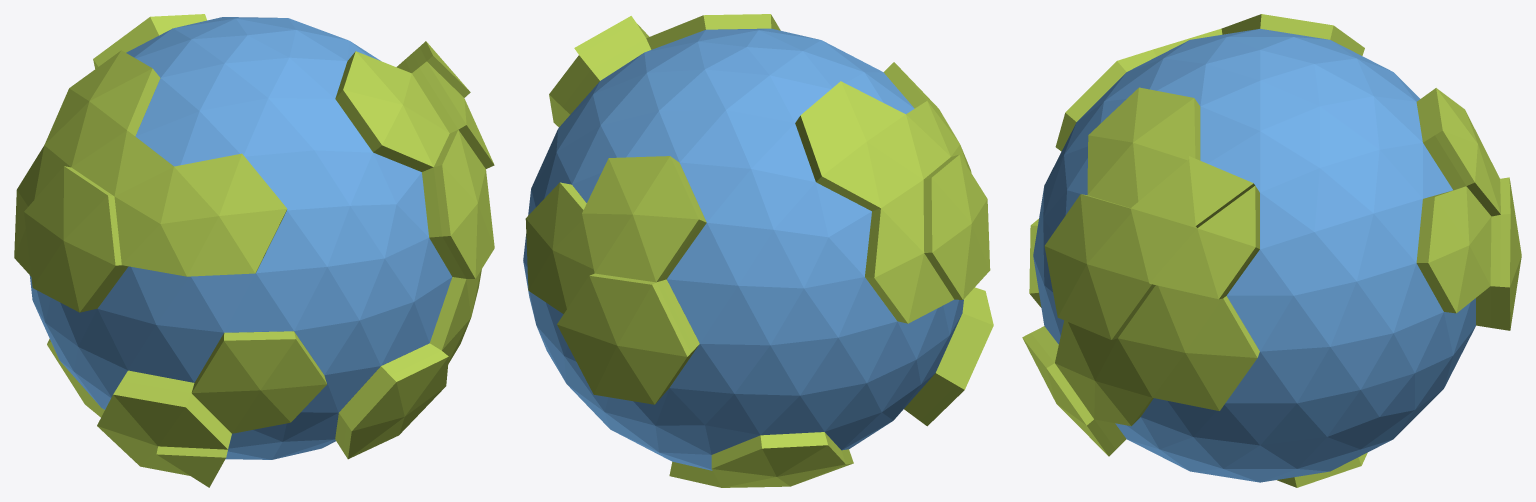
The model's file is planet.fbx.
3 renders of one model, left to right at view 1: azimuth 30°, elevation 25°; view 2: azimuth 150°, elevation 25°; view 3: azimuth 270°, elevation 25°, orthographic.
Visible parts, largest first — view 1: Icosphere, water; view 2: water, Icosphere; view 3: water, Icosphere.
Boxes of the visible parts, left/top/right/bottom form: Icosphere: left=14, top=14, right=494, bottom=487; water: left=29, top=17, right=452, bottom=459; water: left=523, top=28, right=963, bottom=470; Icosphere: left=525, top=14, right=993, bottom=487; water: left=1033, top=28, right=1475, bottom=482; Icosphere: left=1022, top=14, right=1521, bottom=487.
Size of the model in its own units: 801 by 750 by 799.
